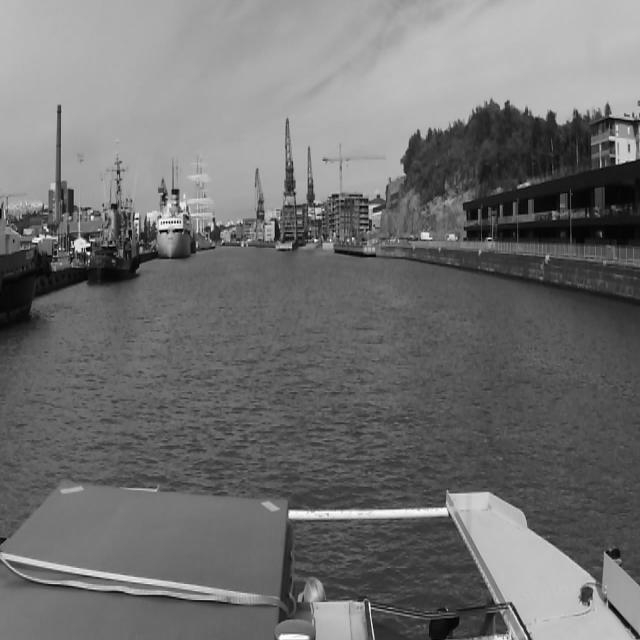ship: (87, 140, 141, 282), (157, 157, 191, 260), (194, 153, 210, 250), (240, 223, 248, 247)
